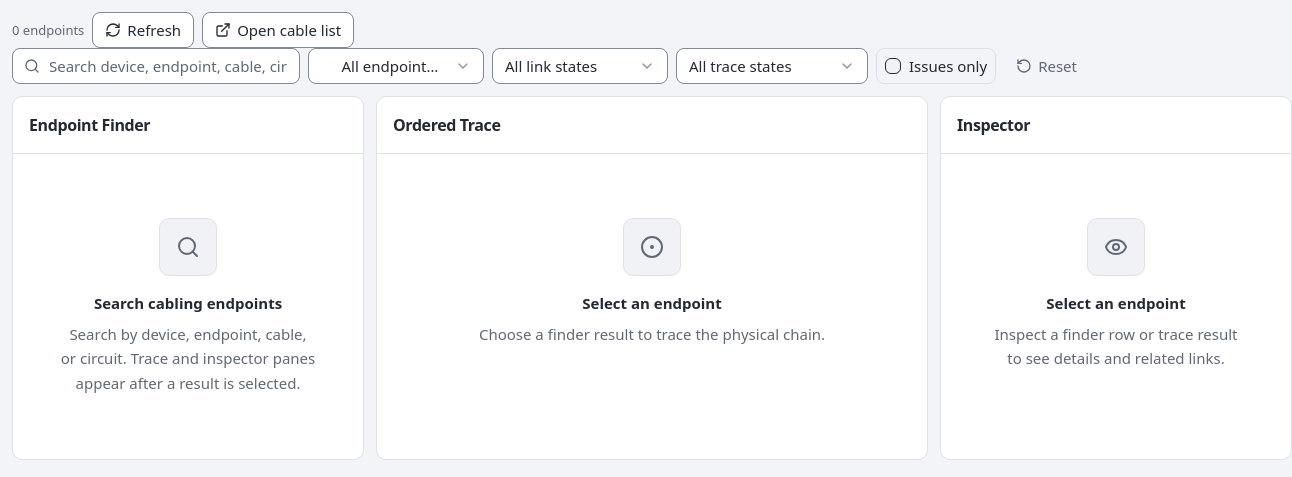
Test: CablingWorkstation › rejects short unfiltered searches in the UI
Type "p" into the field with placeholder "Search device, endpoint, cable, circuit..." at coordinates (156, 66), box [12,48,300,84]
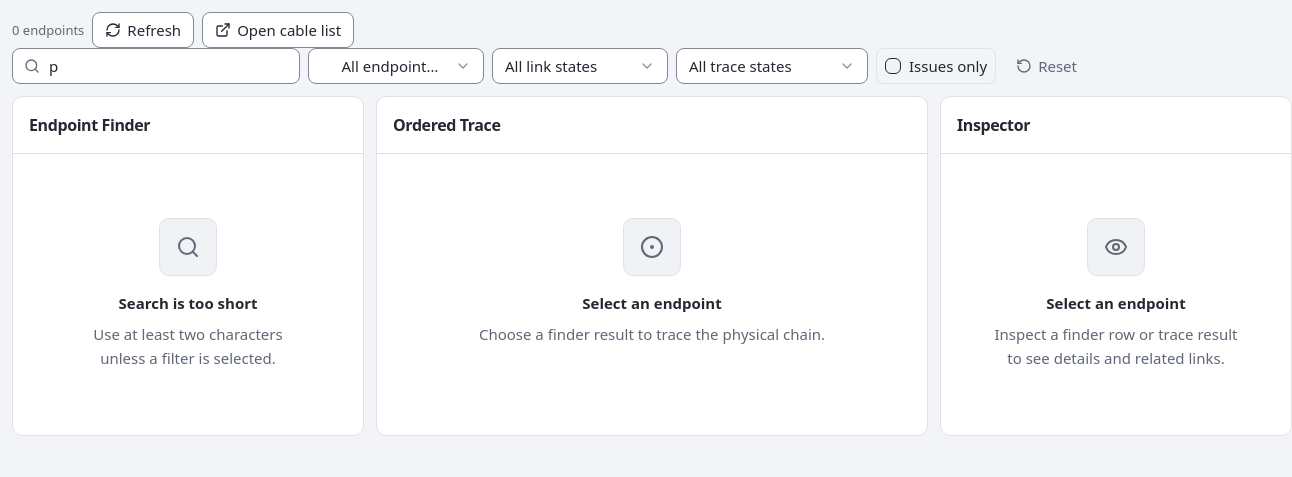
Result: the heading "Search is too short" is shown at [118,292,258,314]
